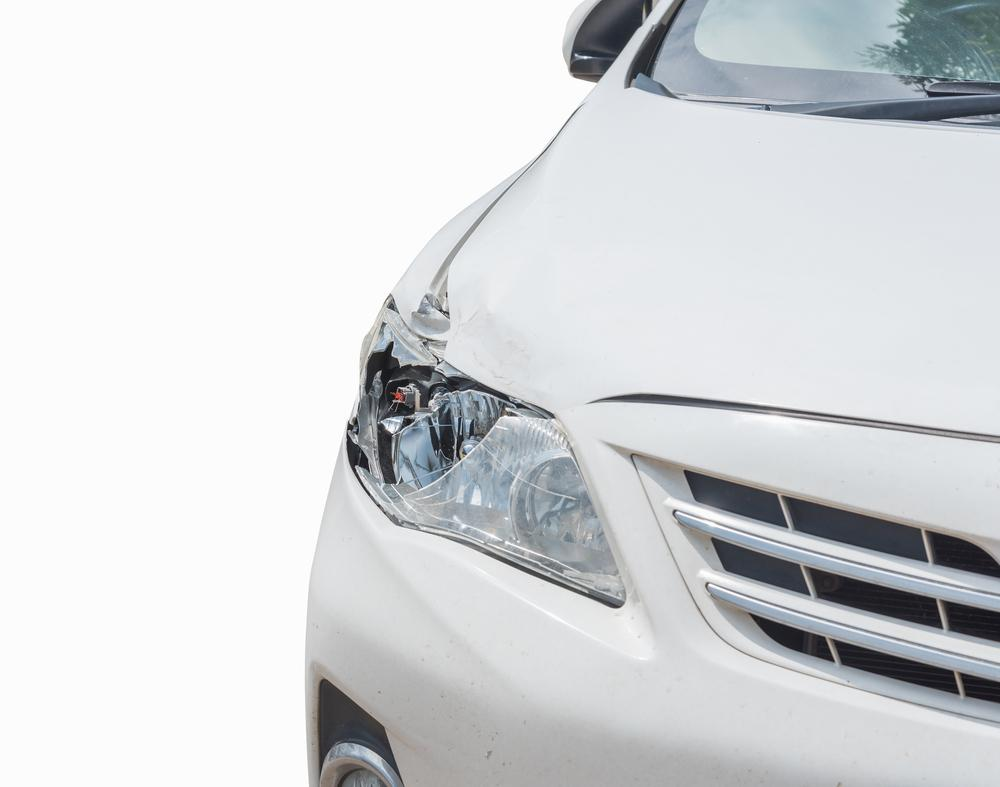lamp broken: (345, 301, 627, 607)
